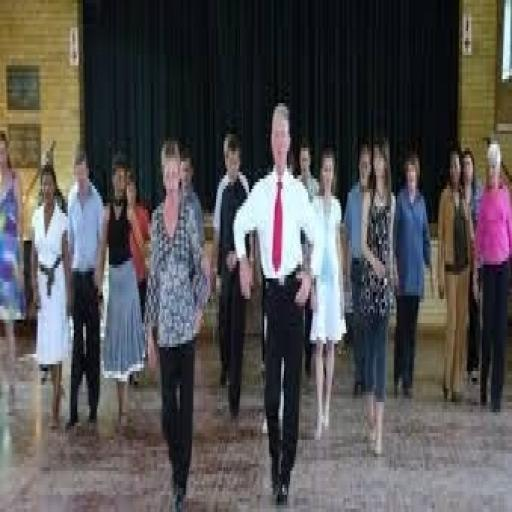dancing: (231, 100, 319, 508)
